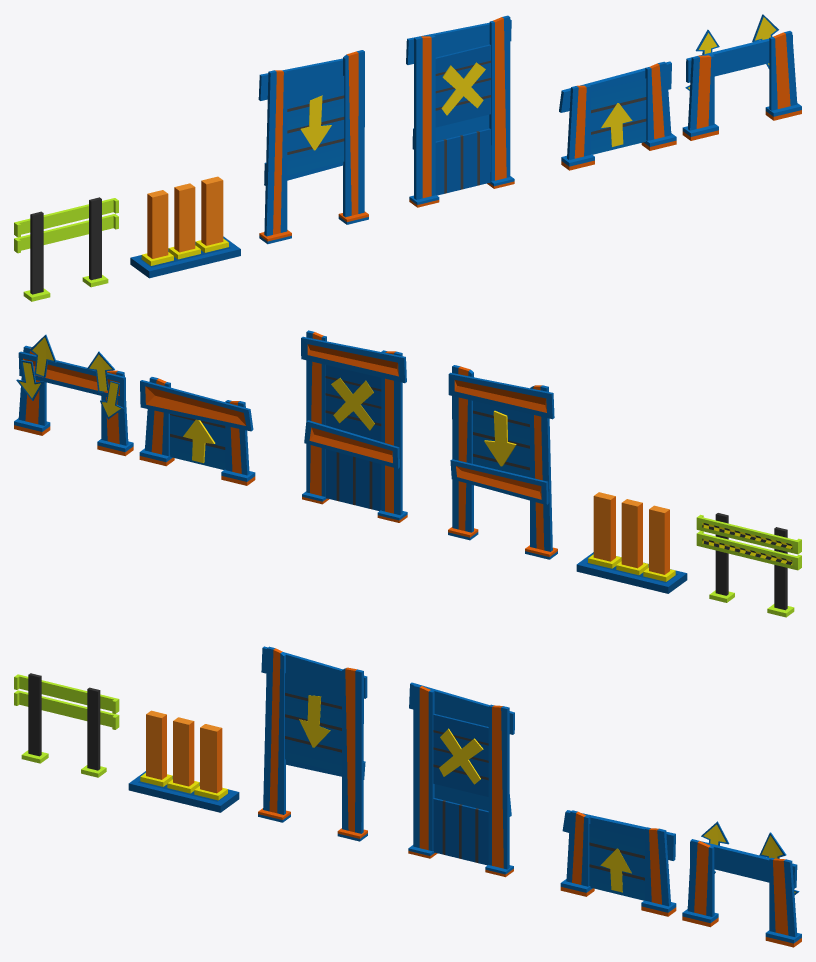
Rendered from obstacles_v01.fbx.
The picture shows the model from 3 angles, top to bottom: view 1: azimuth 30°, elevation 25°; view 2: azimuth 150°, elevation 25°; view 3: azimuth 330°, elevation 25°; orthographic projection.
Parts seen in each view (by area): view 1: BR_pPlane5, BR_pPlane6, BR_Jump01, BR_Jump03, BR_Jump02, BR_Slide02; view 2: BR_pPlane5, BR_pPlane6, BR_Jump01, BR_Jump03, BR_Jump02, BR_Slide02; view 3: BR_pPlane5, BR_pPlane6, BR_Jump01, BR_Jump03, BR_Jump02, BR_Slide02.
Boxes of the visible parts, x1,y1,x2,y2 form: BR_pPlane5: (406,15,514,207); BR_pPlane6: (258,50,368,244); BR_Jump01: (559,61,676,170); BR_Jump03: (682,14,801,140); BR_Jump02: (130,176,240,278); BR_Slide02: (14,197,118,301); BR_pPlane5: (301,330,407,522); BR_pPlane6: (448,365,557,559); BR_Jump01: (139,377,255,485); BR_Jump03: (14,334,133,456); BR_Jump02: (576,492,687,593); BR_Slide02: (696,513,801,617); BR_pPlane5: (408,682,514,877); BR_pPlane6: (258,646,367,841); BR_Jump01: (560,810,676,916); BR_Jump03: (682,821,801,947); BR_Jump02: (128,710,239,812); BR_Slide02: (14,673,119,777).
Size of the model in its own units: 3380 by 692 by 141.
Materials: 1 (1 with a texture image).
